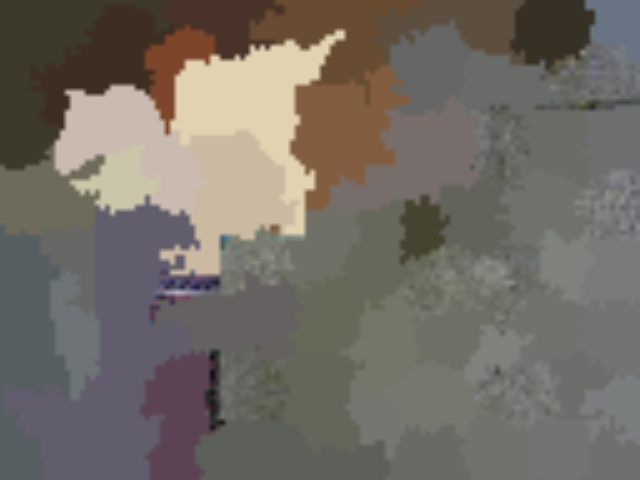two: (79, 113, 126, 155)
